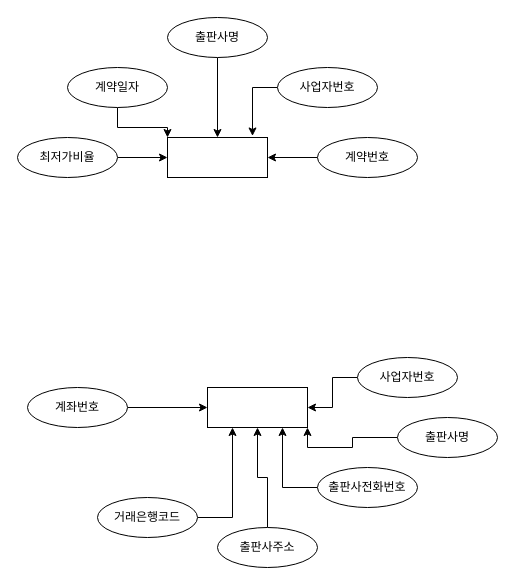
Image size: 515x585. Some labels were removed from this diagram. The shapes that lost their labels are listed below. From the top down, each one's centre as x and y in pixels, then its label:
At point 217,157: "계약서".
At point 257,407: "출판사 정보".
